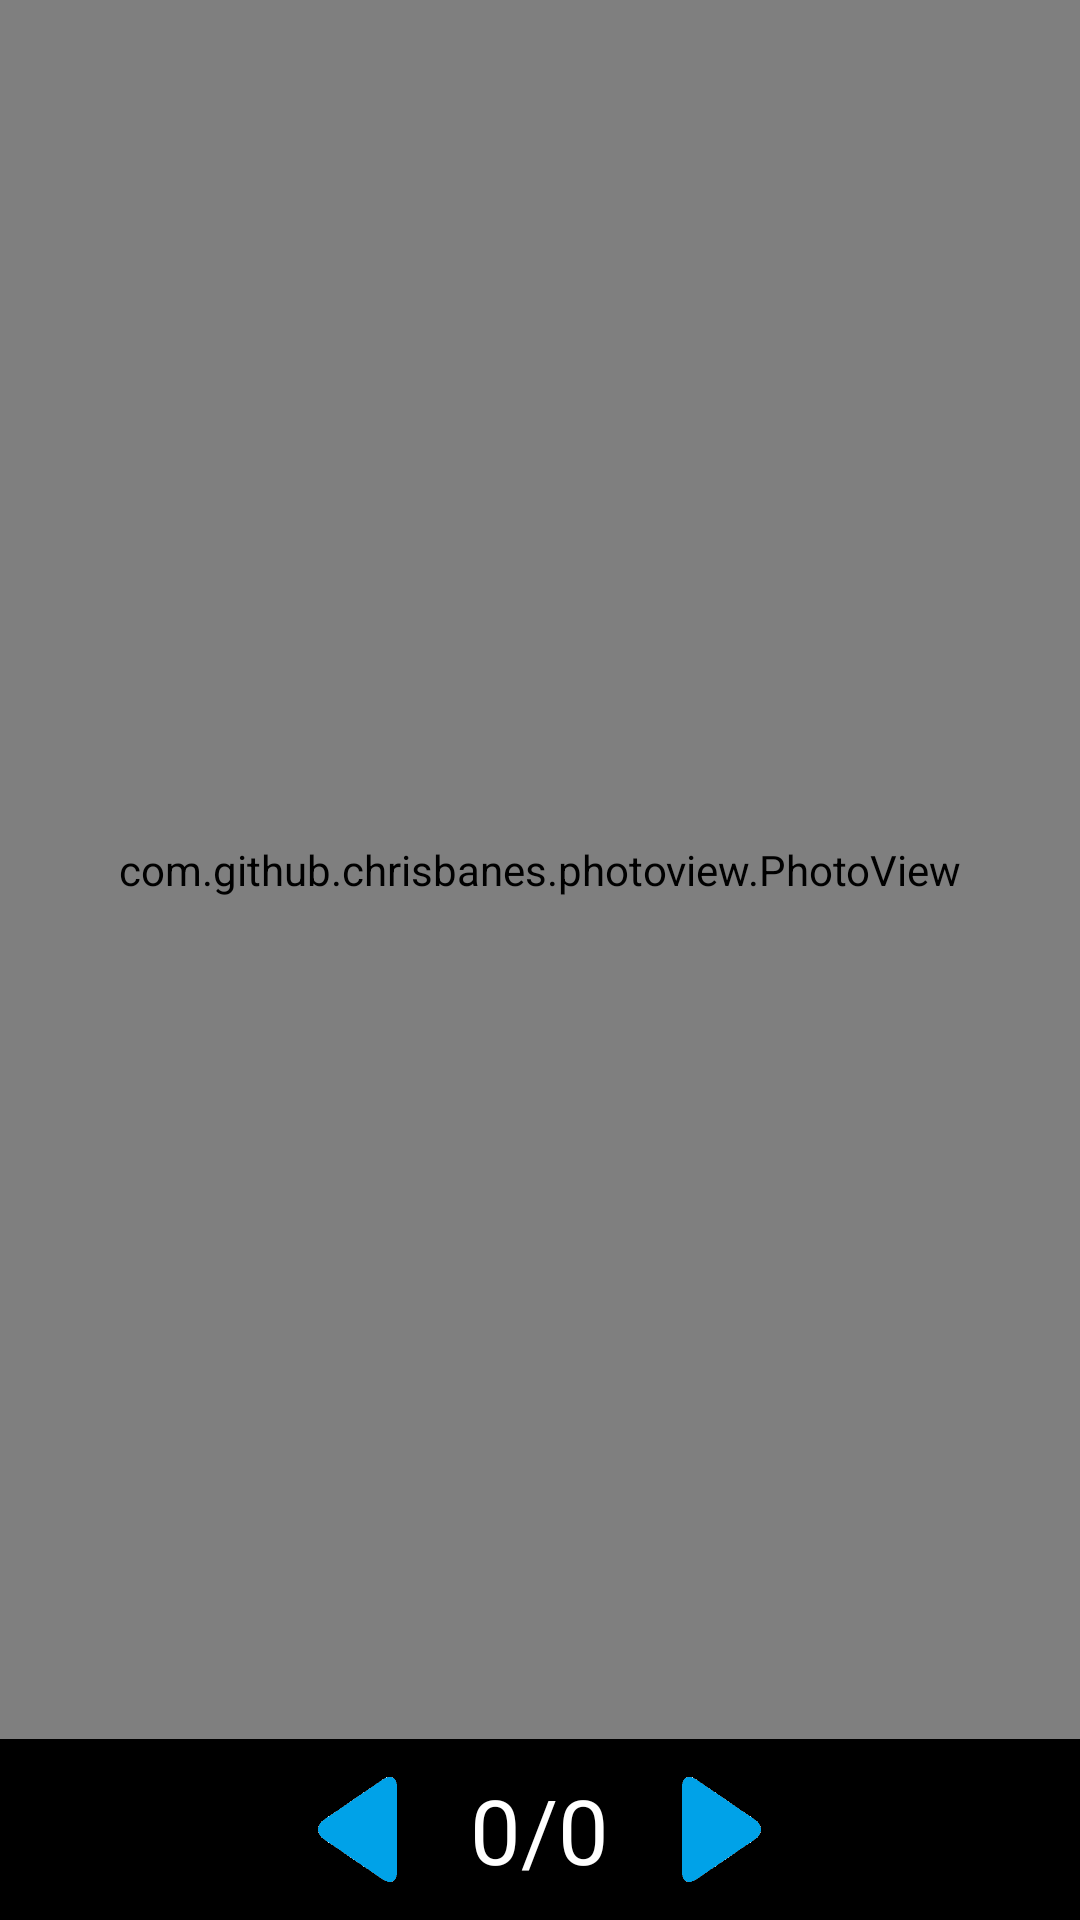

Named icons in this screenshot (1080*1920) and their centers, (x,y):
arrow left: (357,1829)
arrow right: (721,1829)
